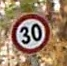limite 30: (8, 11, 52, 54)
